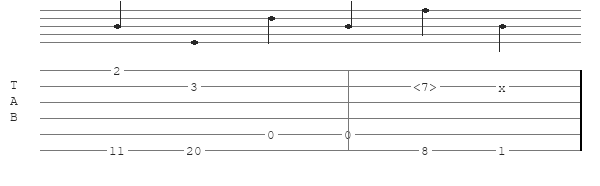0: (267, 128, 279, 140), (344, 128, 356, 140)
1: (498, 144, 510, 156)
11: (109, 144, 129, 156)
2: (113, 64, 125, 76)
20: (186, 144, 206, 156)
3: (190, 80, 202, 92)
8: (421, 144, 433, 156)
harmonic: (413, 80, 441, 93)
x: (498, 81, 510, 91)
